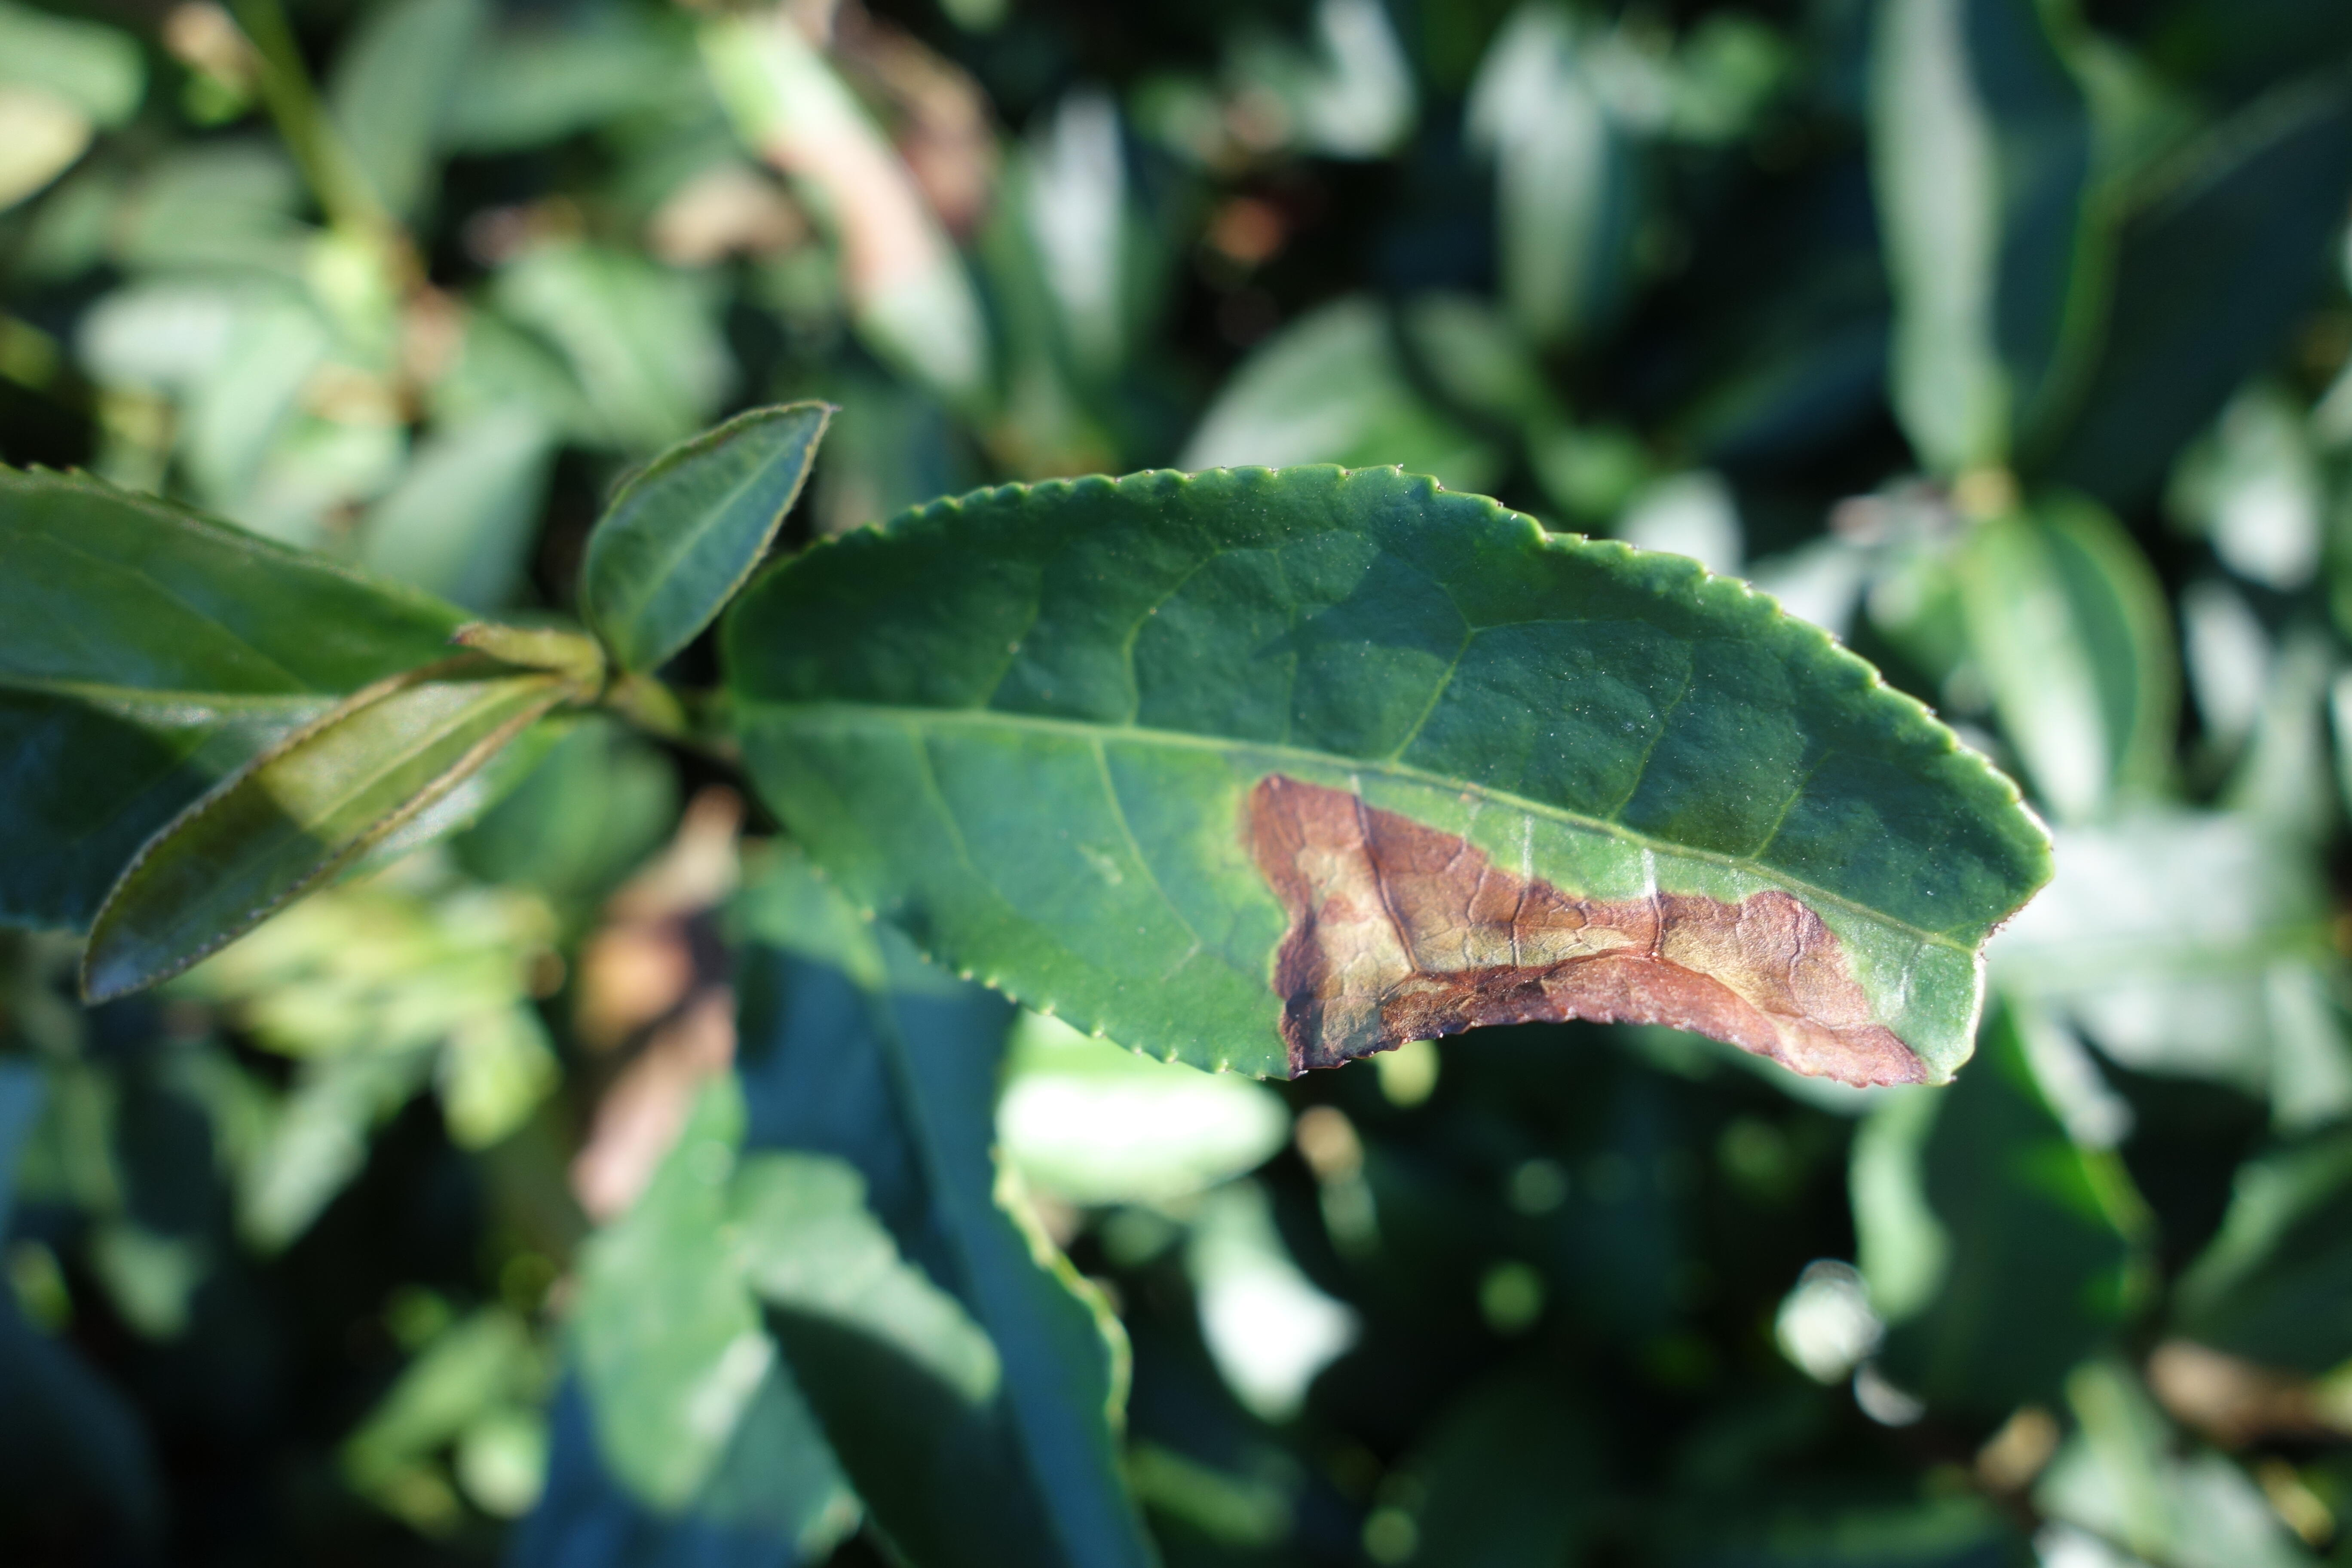tanju_high: (721, 465, 2058, 1092)
tanju_low: (86, 658, 562, 1008)
